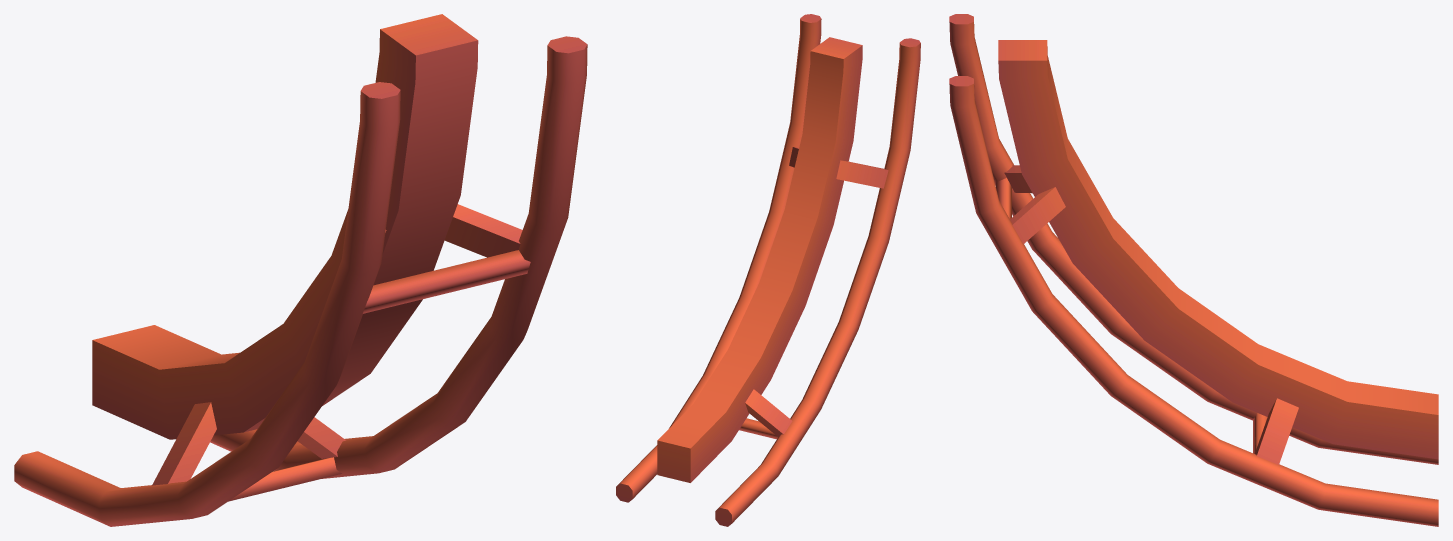
The model's file is coaster-hanging-straight-bend.glb.
3 renders of one model, left to right at view 1: azimuth 30°, elevation 25°; view 2: azimuth 150°, elevation 25°; view 3: azimuth 270°, elevation 25°, orthographic. The views are drawn at different scales.
Visible parts, largest first — view 1: coaster-hanging-straight-bend; view 2: coaster-hanging-straight-bend; view 3: coaster-hanging-straight-bend.
Boxes of the visible parts, box(x1,y1,x2,y2) form: coaster-hanging-straight-bend: box(14, 14, 587, 526); coaster-hanging-straight-bend: box(616, 14, 920, 526); coaster-hanging-straight-bend: box(949, 14, 1438, 526).
Size of the model in its own units: 0.7 by 2 by 2.
Materials: 1 (1 with a texture image).
